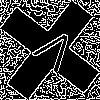V: (25, 25, 80, 82)
